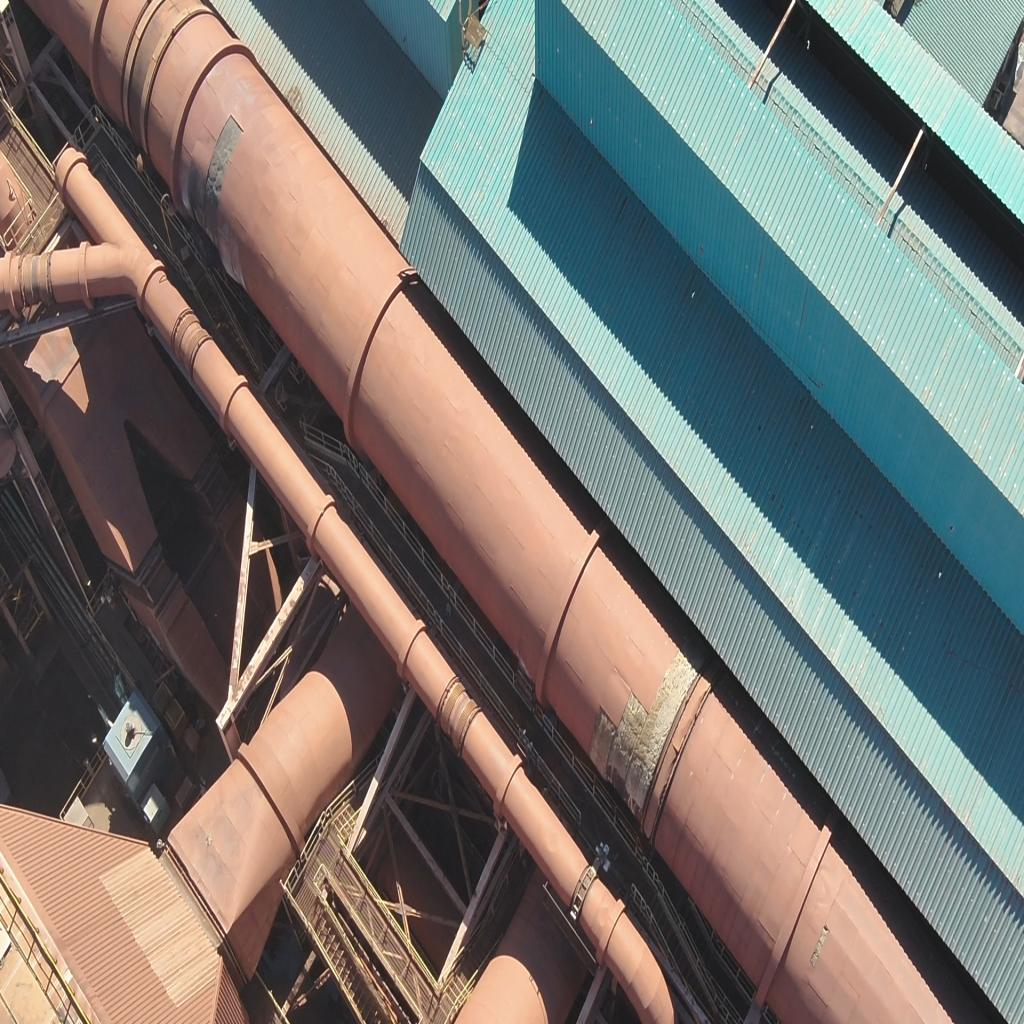Failures: (626, 647, 699, 814), (203, 111, 241, 248), (606, 692, 647, 794), (588, 707, 616, 778)
